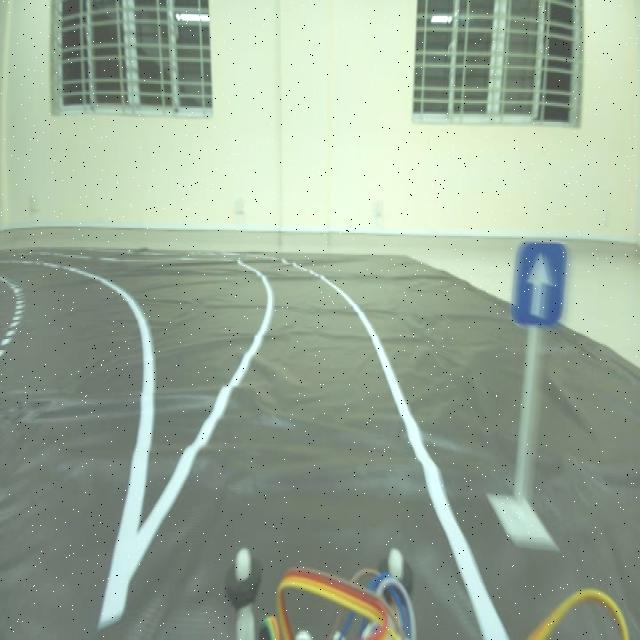onewayroad: (512, 236, 570, 331)
